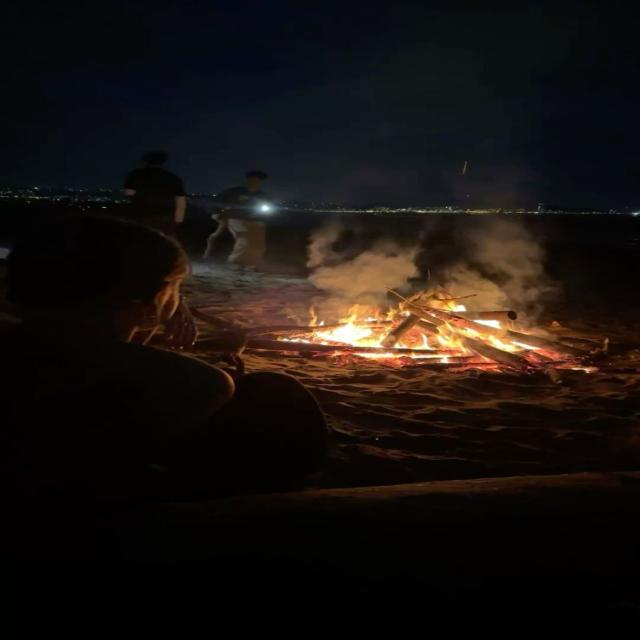fire: (436, 319, 515, 357), (315, 315, 381, 347)
